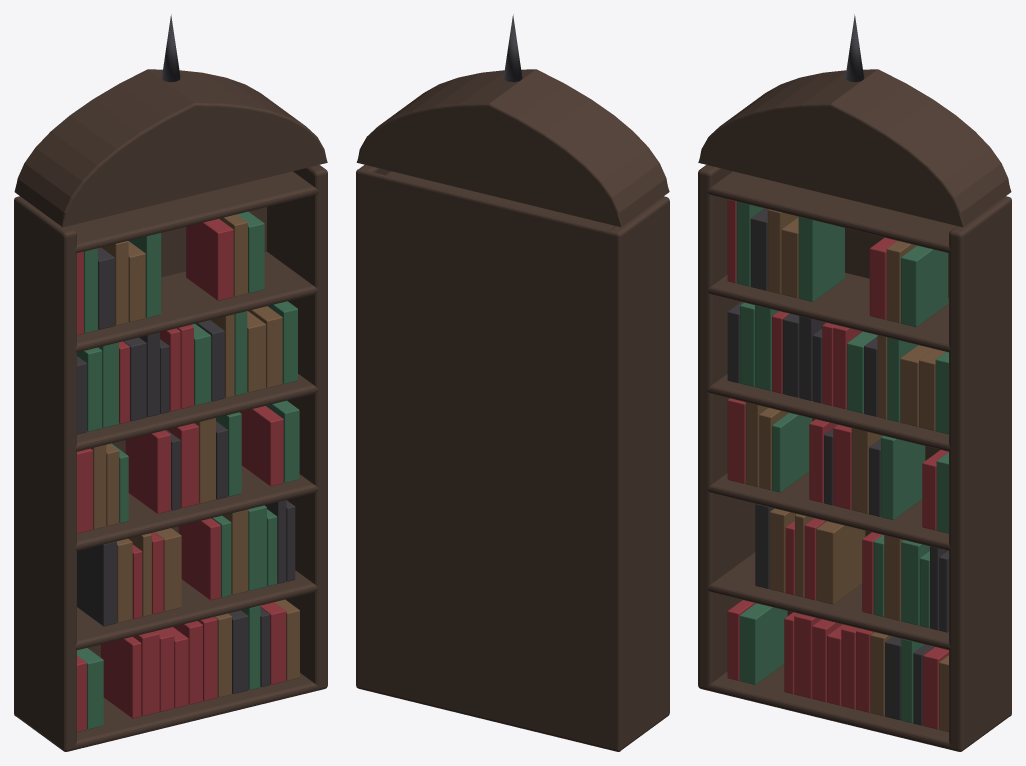
The model's file is bookshelf.glb.
The picture shows the model from 3 angles, left to right: view 1: azimuth 30°, elevation 25°; view 2: azimuth 150°, elevation 25°; view 3: azimuth 330°, elevation 25°; orthographic projection.
Parts seen in each view (by area): view 1: GD_bookshelf; view 2: GD_bookshelf; view 3: GD_bookshelf.
Boxes of the visible parts, x1=… form: GD_bookshelf: x1=14, y1=14, x2=327, y2=751; GD_bookshelf: x1=356, y1=14, x2=669, y2=751; GD_bookshelf: x1=698, y1=14, x2=1011, y2=751.
Bounding box in the file's own units: 0.95 × 2.36 × 0.32.
